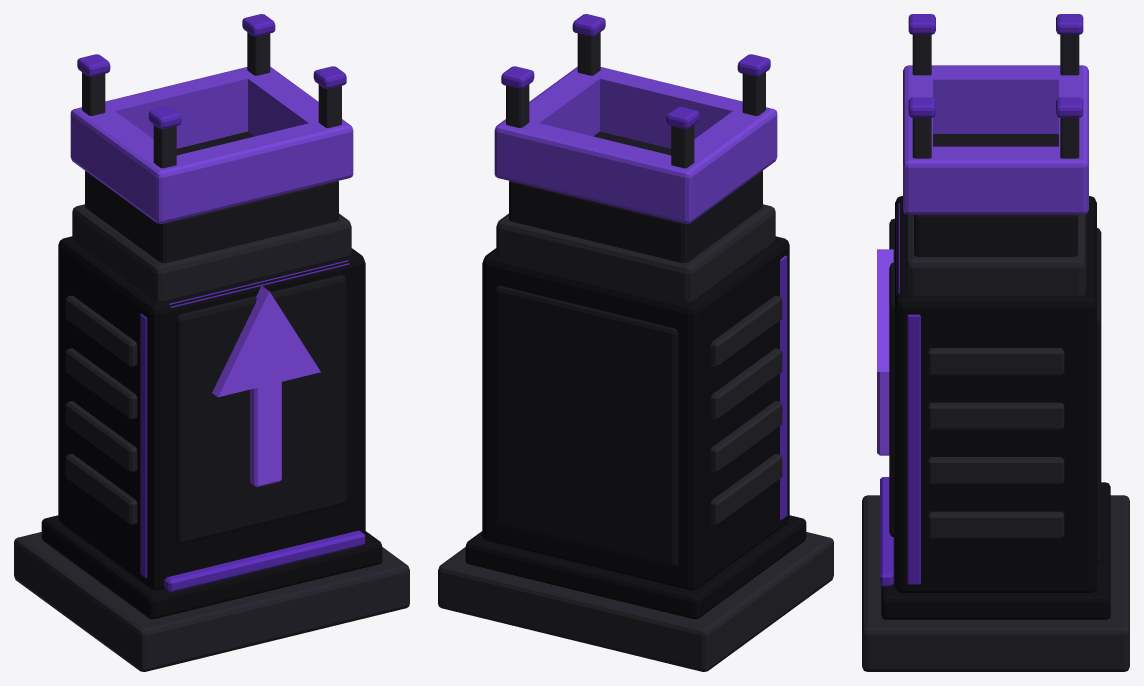
The model's file is pap_machine.obj.
The picture shows the model from 3 angles, left to right: view 1: azimuth 30°, elevation 25°; view 2: azimuth 150°, elevation 25°; view 3: azimuth 270°, elevation 25°; orthographic projection. The views are drawn at different scales.
Parts seen in each view (by area): view 1: body, panel_fr, chamber_rim, plinth, shoulder, chamber, plinth2, arrow_head, arrow_shaft, band_base, strip_v_-1, fin_-1_0 (+12 smaller); view 2: panel_bk, body, chamber_rim, plinth, shoulder, chamber, plinth2, fin_-1_0, fin_-1_3, fin_-1_1, fin_-1_2, strip_v_-1 (+8 smaller); view 3: body, chamber_rim, plinth, chamber, shoulder, plinth2, fin_1_1, fin_1_3, fin_1_0, fin_1_2, strip_v_1, panel_fr (+12 smaller).
Part boxes in pixels (box(x1,y1,x2,y2)): body: box(58, 236, 365, 590); panel_fr: box(176, 275, 346, 544); chamber_rim: box(70, 66, 353, 223); plinth: box(14, 532, 409, 671); shoulder: box(72, 204, 351, 301); chamber: box(85, 131, 338, 262); plinth2: box(41, 515, 382, 619); arrow_head: box(212, 285, 320, 397); arrow_shaft: box(250, 375, 281, 487); band_base: box(164, 530, 365, 592); strip_v_-1: box(140, 313, 147, 578); fin_-1_0: box(65, 453, 137, 525); panel_bk: box(495, 286, 678, 567); body: box(482, 236, 789, 590); chamber_rim: box(494, 66, 777, 223); plinth: box(438, 532, 833, 671); shoulder: box(496, 204, 775, 301); chamber: box(509, 131, 762, 262); plinth2: box(465, 515, 806, 619); fin_-1_0: box(710, 453, 782, 525); fin_-1_3: box(710, 295, 782, 366); fin_-1_1: box(710, 401, 782, 472); fin_-1_2: box(710, 348, 782, 419); strip_v_-1: box(780, 255, 787, 520); body: box(895, 196, 1096, 592); chamber_rim: box(903, 65, 1088, 214); plinth: box(862, 495, 1129, 671); chamber: box(914, 134, 1077, 256); shoulder: box(905, 214, 1086, 296); plinth2: box(881, 482, 1110, 619); fin_1_1: box(927, 457, 1064, 484); fin_1_3: box(927, 348, 1064, 375); fin_1_0: box(927, 511, 1064, 538); fin_1_2: box(927, 402, 1064, 429); strip_v_1: box(907, 314, 920, 584); panel_fr: box(889, 218, 894, 537).
Size of the model in its own units: 1.18 by 2.2 by 0.98.
